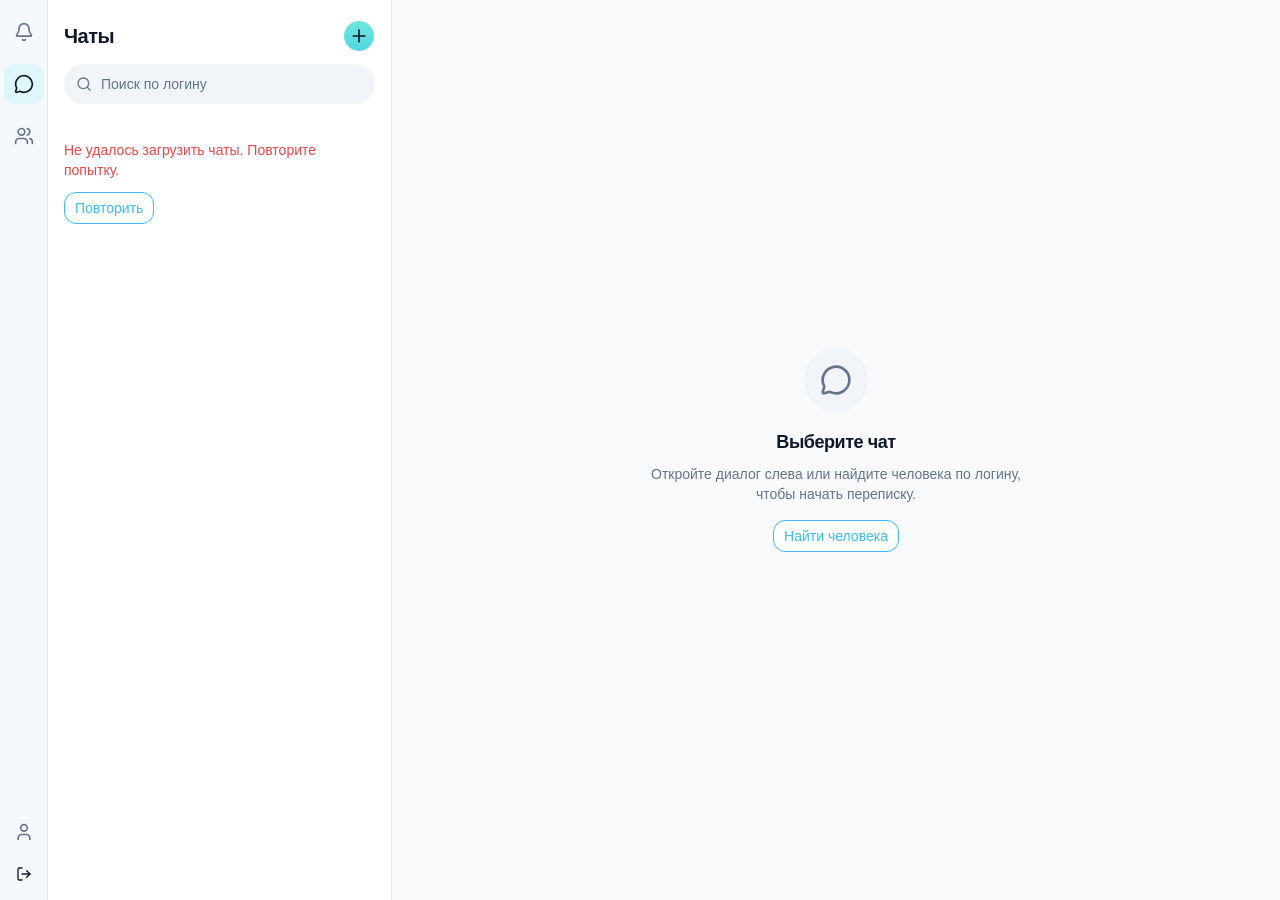
ChatListPage › shows error with retry when list fails
Check: the message shows "Не удалось загрузить", box top-left (64, 142), bottom-right (316, 178)
Click the button "Повторить": {"x": 109, "y": 208} top-left (64, 192), bottom-right (154, 224)
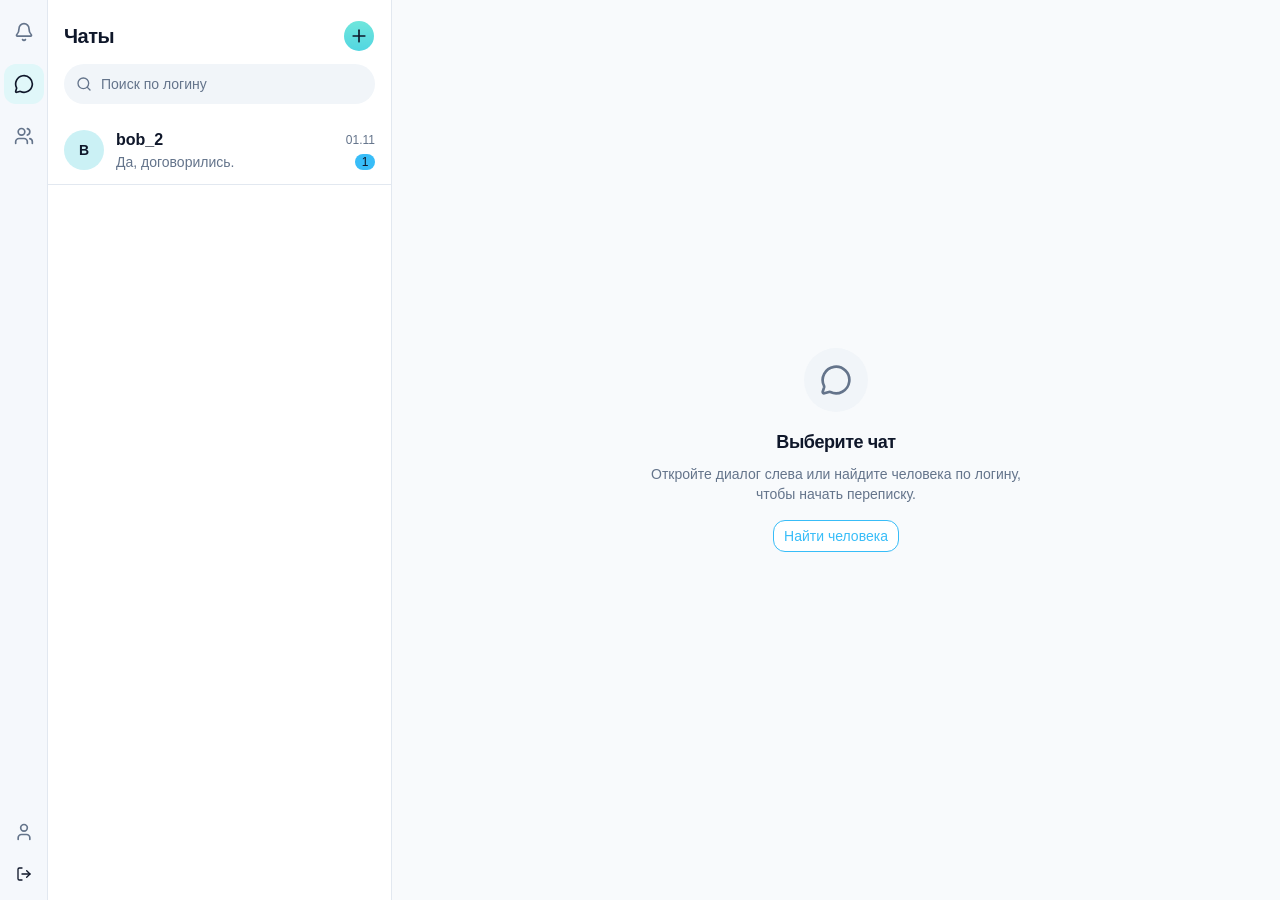
Check: the text "bob_2" is shown, box top-left (116, 128), bottom-right (163, 152)
